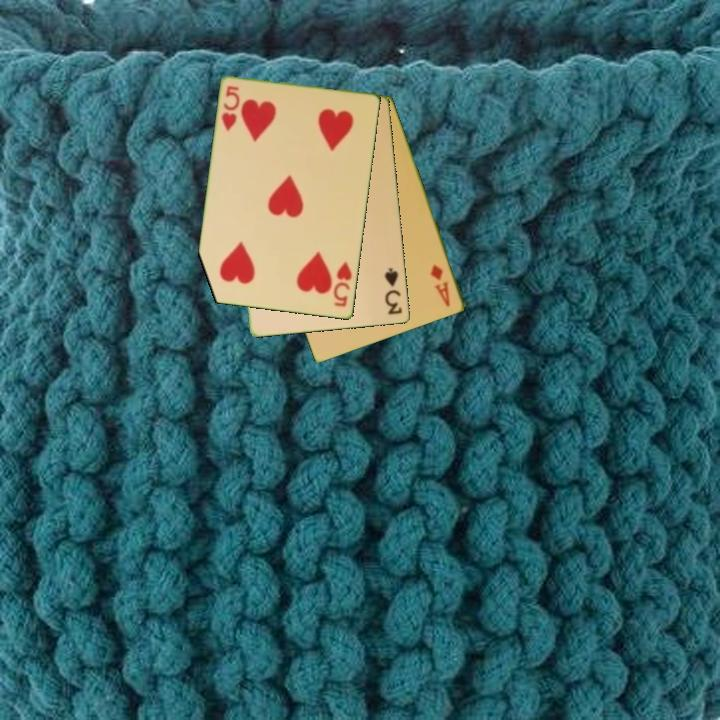3s: (381, 264, 405, 318)
5h: (330, 258, 355, 310), (218, 82, 243, 134)
Ad: (427, 261, 453, 310)
